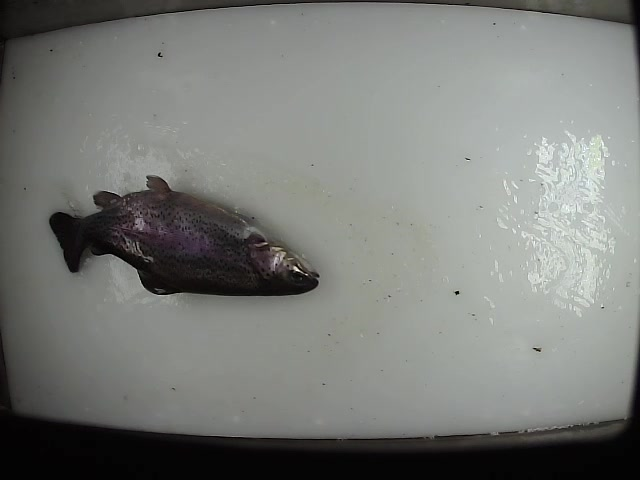Fish: (48, 174, 318, 296)
